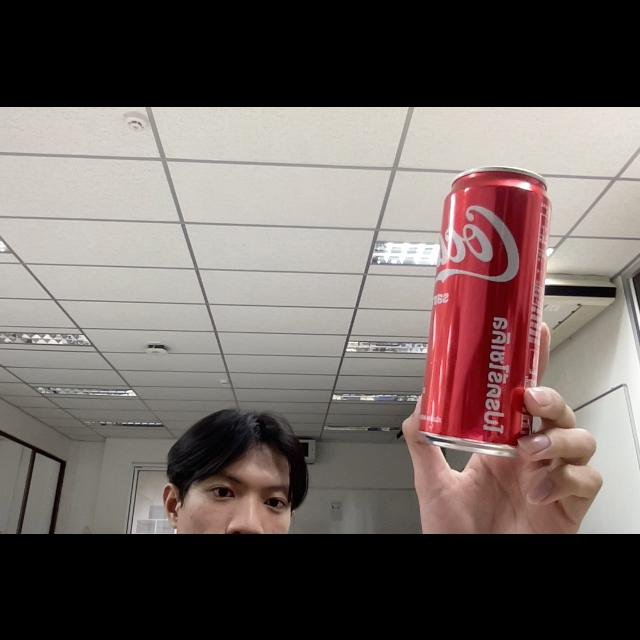can: (412, 161, 566, 457)
